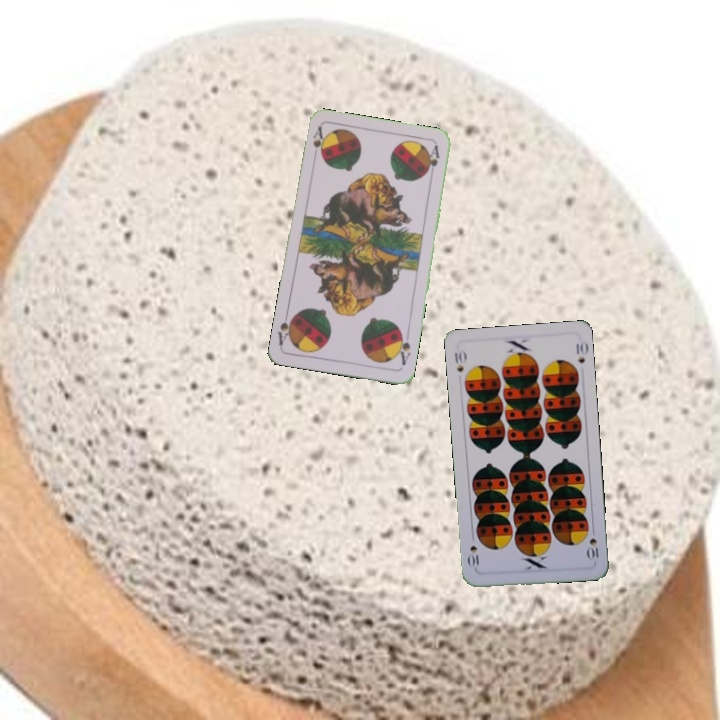S10: (584, 523, 601, 563), (451, 347, 468, 375)
SA: (393, 328, 413, 368), (309, 123, 328, 163)
